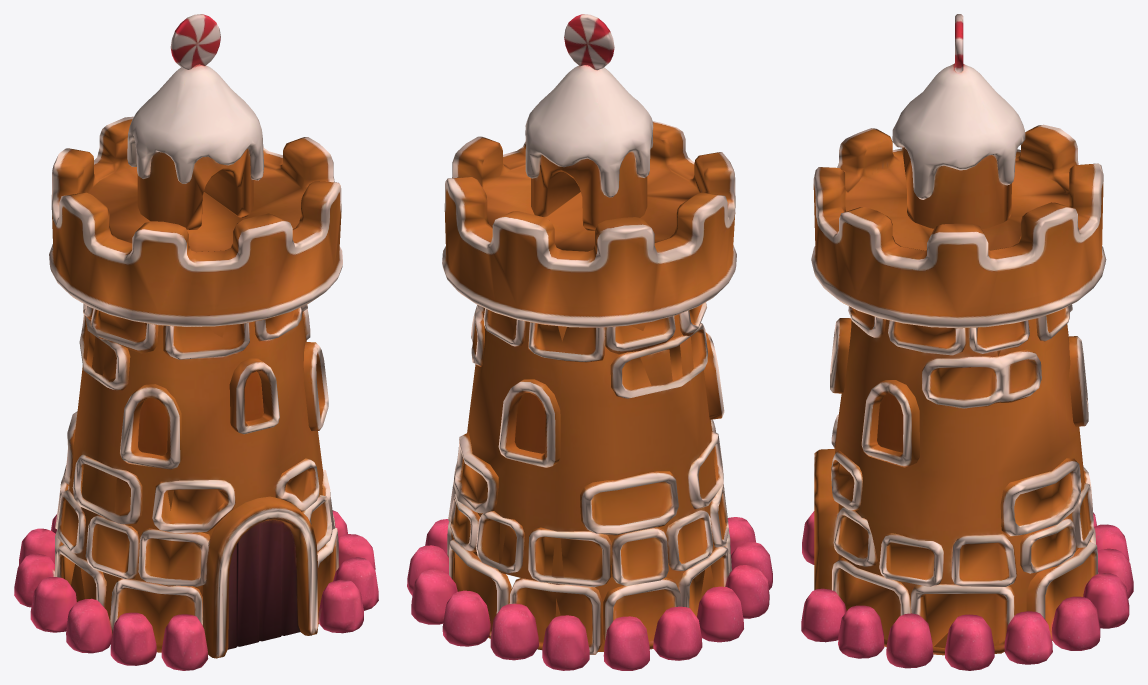
Rendered from gingerbread_tower.glb.
3 views of the same model, side by side, from view 1: azimuth 30°, elevation 25°; view 2: azimuth 150°, elevation 25°; view 3: azimuth 270°, elevation 25° (orthographic).
Parts seen in each view (by area): view 1: gingerbread_tower; view 2: gingerbread_tower; view 3: gingerbread_tower.
Part boxes in pixels (<box>): gingerbread_tower: <box>14,14,378,670</box>; gingerbread_tower: <box>407,14,772,670</box>; gingerbread_tower: <box>801,14,1133,670</box>.
Size of the model in its own units: 4.3 by 7.6 by 3.95.
1 material, 1 textured.
